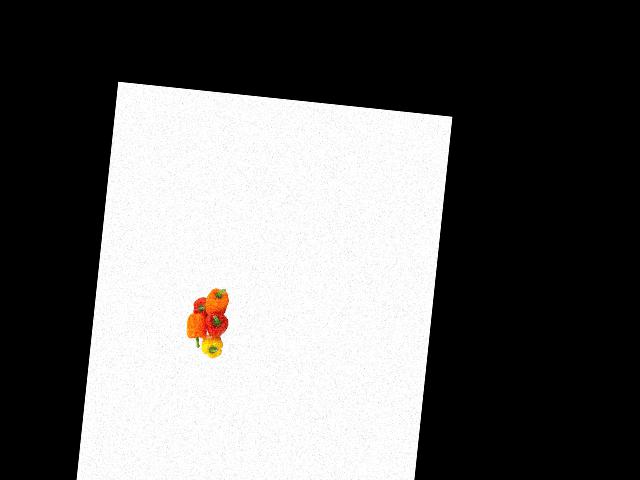bell_pepper: (202, 280, 233, 318)
